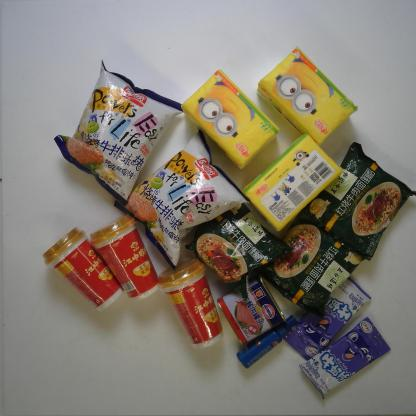Candy: (299, 316, 391, 401), (282, 276, 372, 361)
Canned Food: (217, 275, 287, 346)
Instant Drink: (42, 227, 124, 313), (89, 214, 160, 302), (158, 257, 224, 349)
Instant Noodles: (293, 141, 416, 261), (260, 214, 366, 318), (184, 202, 294, 299)
Personal Hygiene: (236, 314, 298, 370)
Puffed Food: (113, 126, 252, 271), (53, 58, 183, 206)
Tissue: (241, 132, 344, 233), (258, 46, 358, 147), (181, 68, 280, 170)
